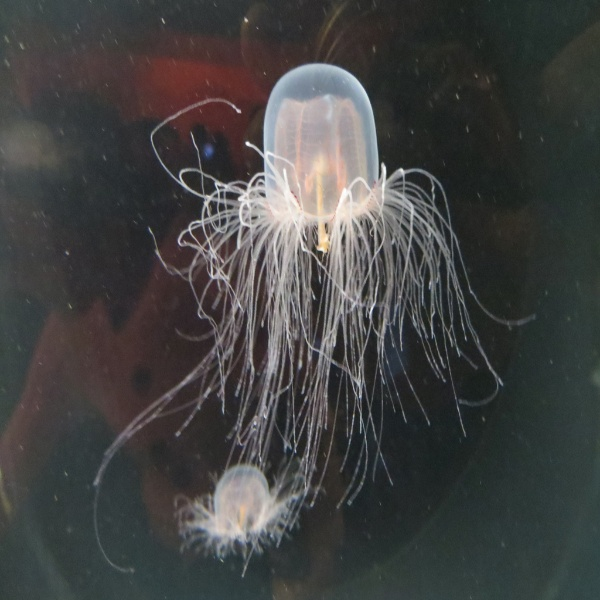Jellyfish: (91, 62, 538, 579)
